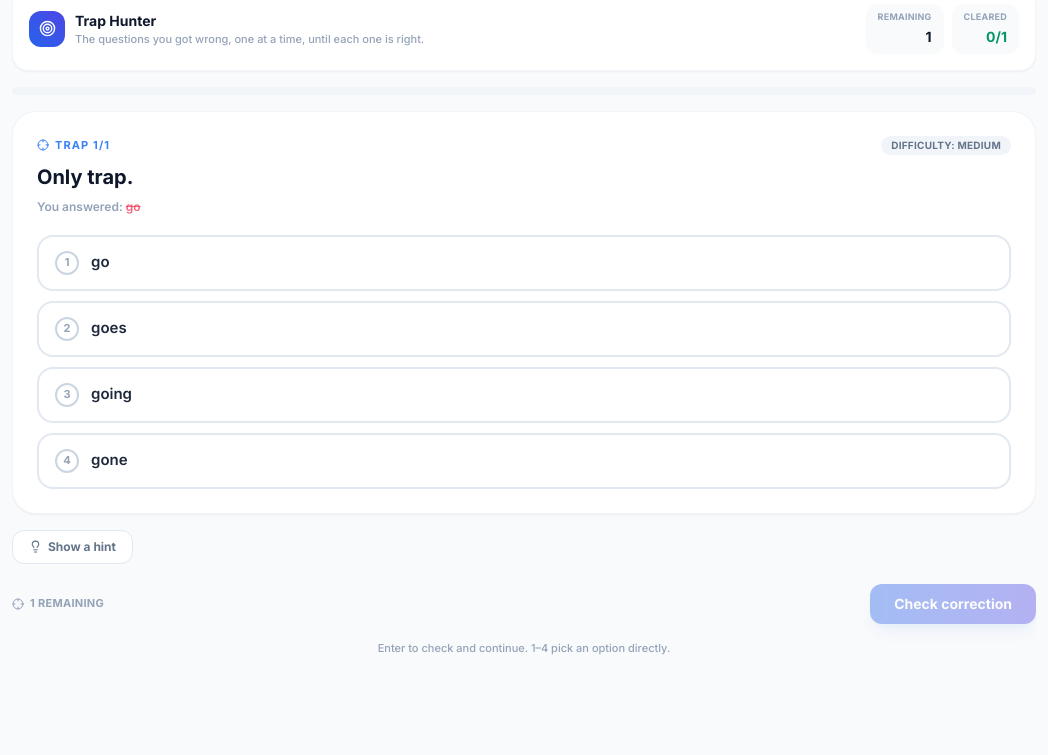
Test: correcting a trap › clears the previous attempt when a trap comes back, so it must be answered again
What coordinates should you click on to do the following:
click the radio button labelled "1 go"
I would click on:
 (67, 262)
Its box is [37,234,1011,290].
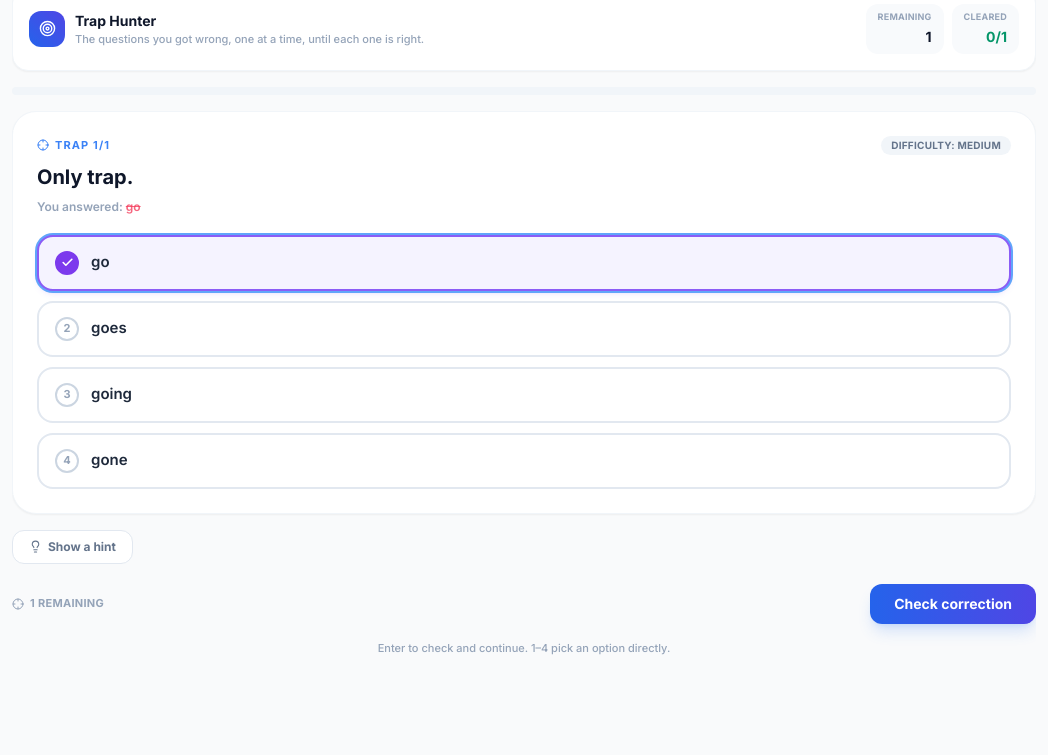
What coordinates should you click on to do the following:
click the button "Check correction"
I would click on:
 (953, 604)
Its box is [870,584,1036,624].
(page scrolled)
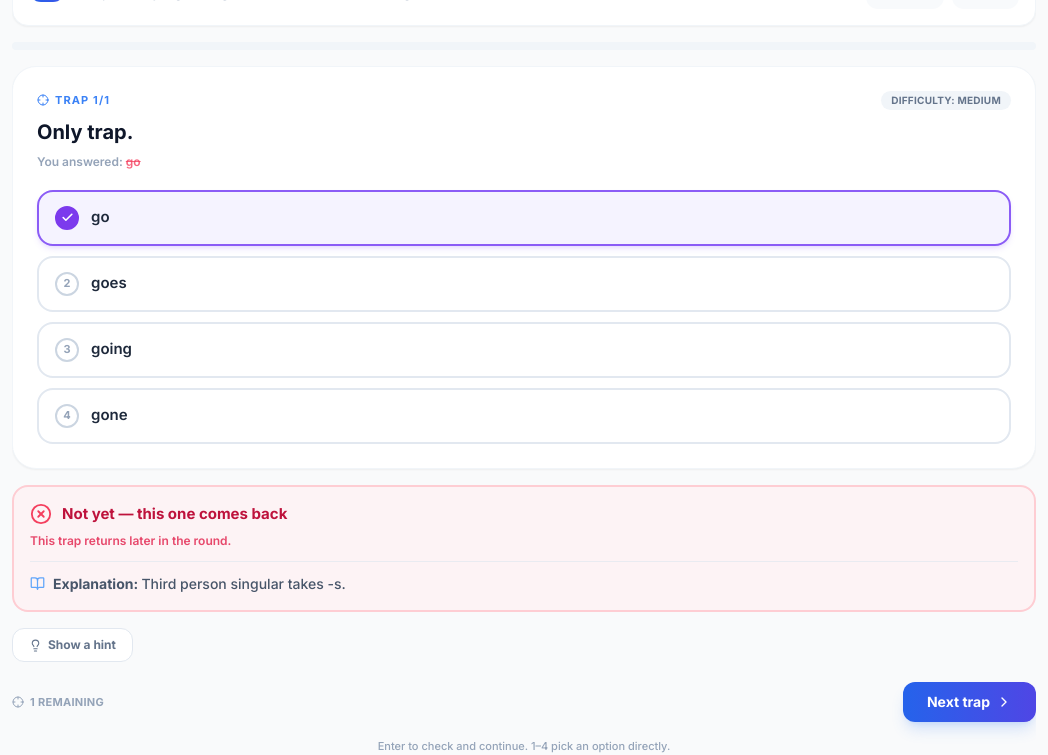
Result: the text "Not yet — this one comes back" is shown at [62,502,287,525]
What coordinates should you click on to do the following:
click the button "Next trap"
I would click on:
 (969, 702)
Its box is [903,682,1036,722].
(page scrolled)
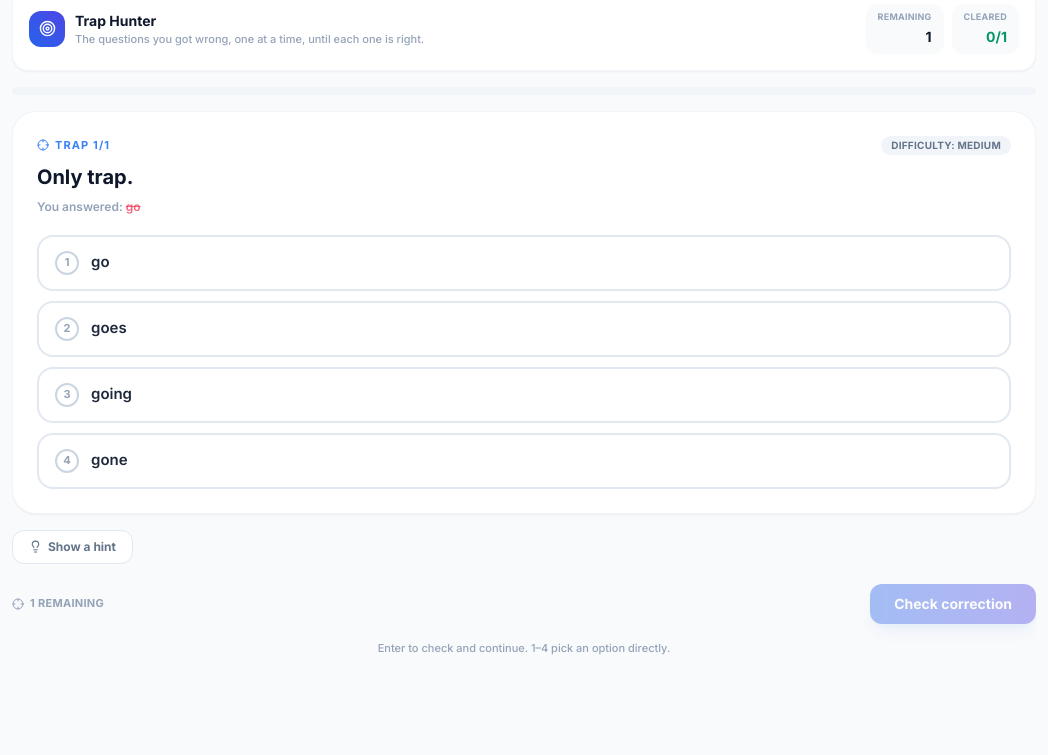
Expected: the heading "Only trap." is shown, [37,164,133,188]
Result: the button "Check correction" is disabled at [870,584,1036,624]
